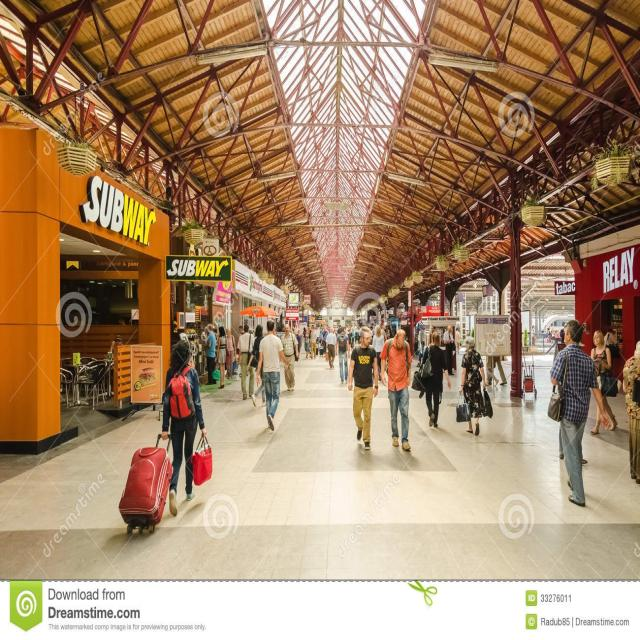body: (545, 318, 612, 508), (160, 338, 208, 518), (346, 323, 380, 450), (253, 316, 289, 432), (410, 330, 452, 429), (380, 329, 413, 451), (457, 336, 488, 438), (590, 330, 618, 434), (622, 339, 640, 484), (245, 324, 267, 408), (237, 322, 256, 402), (279, 323, 299, 392), (478, 353, 512, 390), (213, 325, 230, 389), (530, 321, 573, 346), (334, 324, 350, 385), (204, 324, 218, 386), (442, 324, 458, 378), (372, 324, 386, 382), (290, 318, 306, 362), (333, 321, 360, 347), (224, 328, 237, 380), (369, 322, 396, 347), (323, 326, 337, 369), (308, 323, 330, 344), (414, 330, 425, 368), (308, 326, 318, 360), (602, 328, 618, 348), (302, 328, 312, 360), (320, 325, 330, 356), (108, 334, 124, 353), (428, 324, 437, 346), (300, 326, 308, 350), (454, 326, 460, 354), (238, 324, 246, 334)
